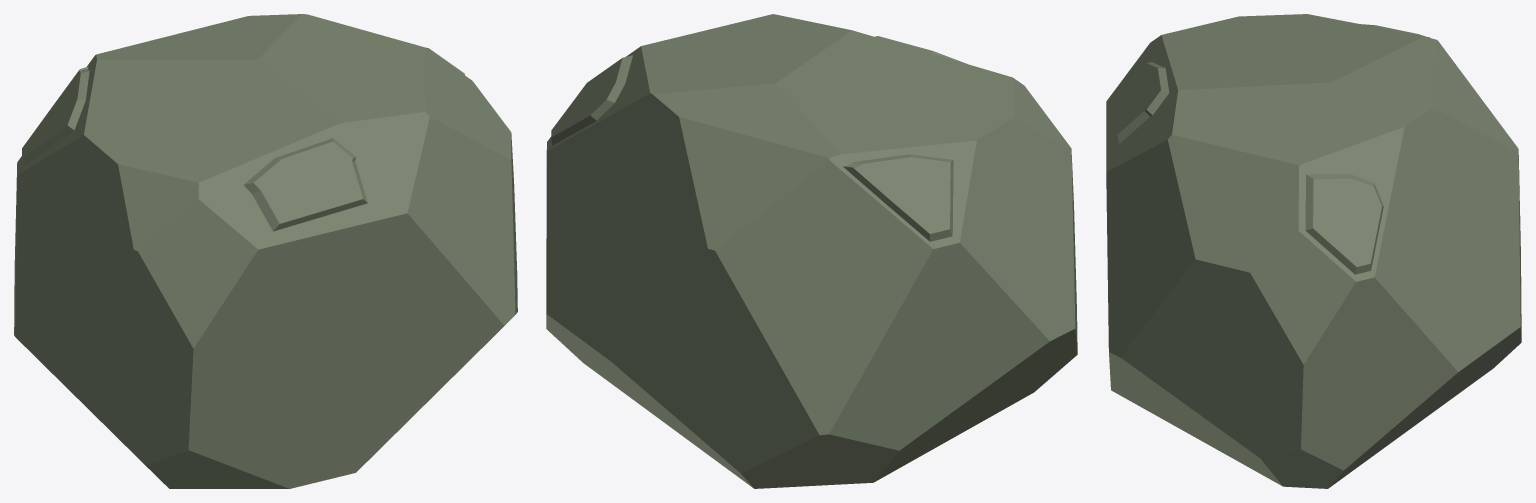
Rendered from stone.glb.
3 renders of one model, left to right at view 1: azimuth 30°, elevation 25°; view 2: azimuth 150°, elevation 25°; view 3: azimuth 270°, elevation 25°, orthographic. The views are drawn at different scales.
Parts seen in each view (by area): view 1: rock; view 2: rock; view 3: rock.
Boxes of the visible parts, <box> form: rock: <box>14,14,517,488</box>; rock: <box>546,14,1077,488</box>; rock: <box>1106,14,1521,488</box>.
Bounding box in the file's own units: 0.35 × 0.217 × 0.259.
